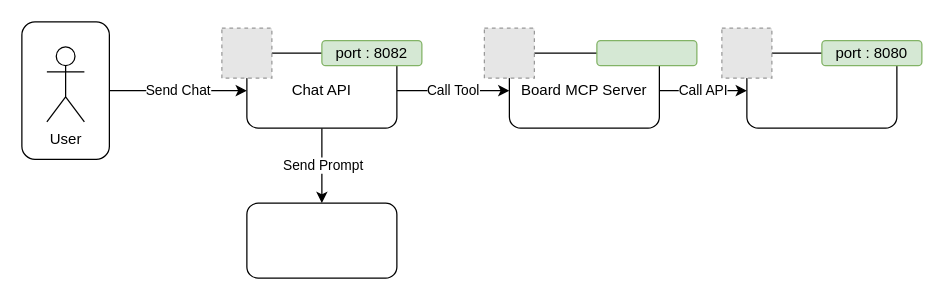
Image size: 944x300. Some labels were removed from this diagram. Grey dashed boxes stand in for pictures. Each missing label, with the box of its shape:
Board API: (746, 52, 897, 128)
LLM Model: (246, 202, 397, 278)
port : 8081: (596, 39, 697, 66)
